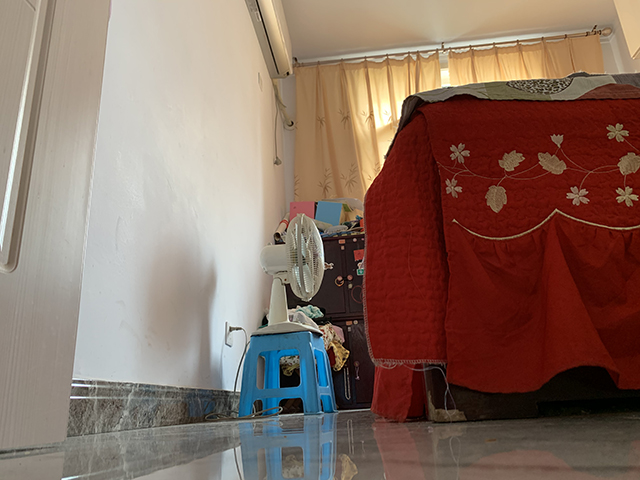bed: (360, 70, 640, 427)
cabinet: (286, 232, 376, 413)
stool: (238, 331, 338, 418)
wire: (202, 325, 283, 423)
